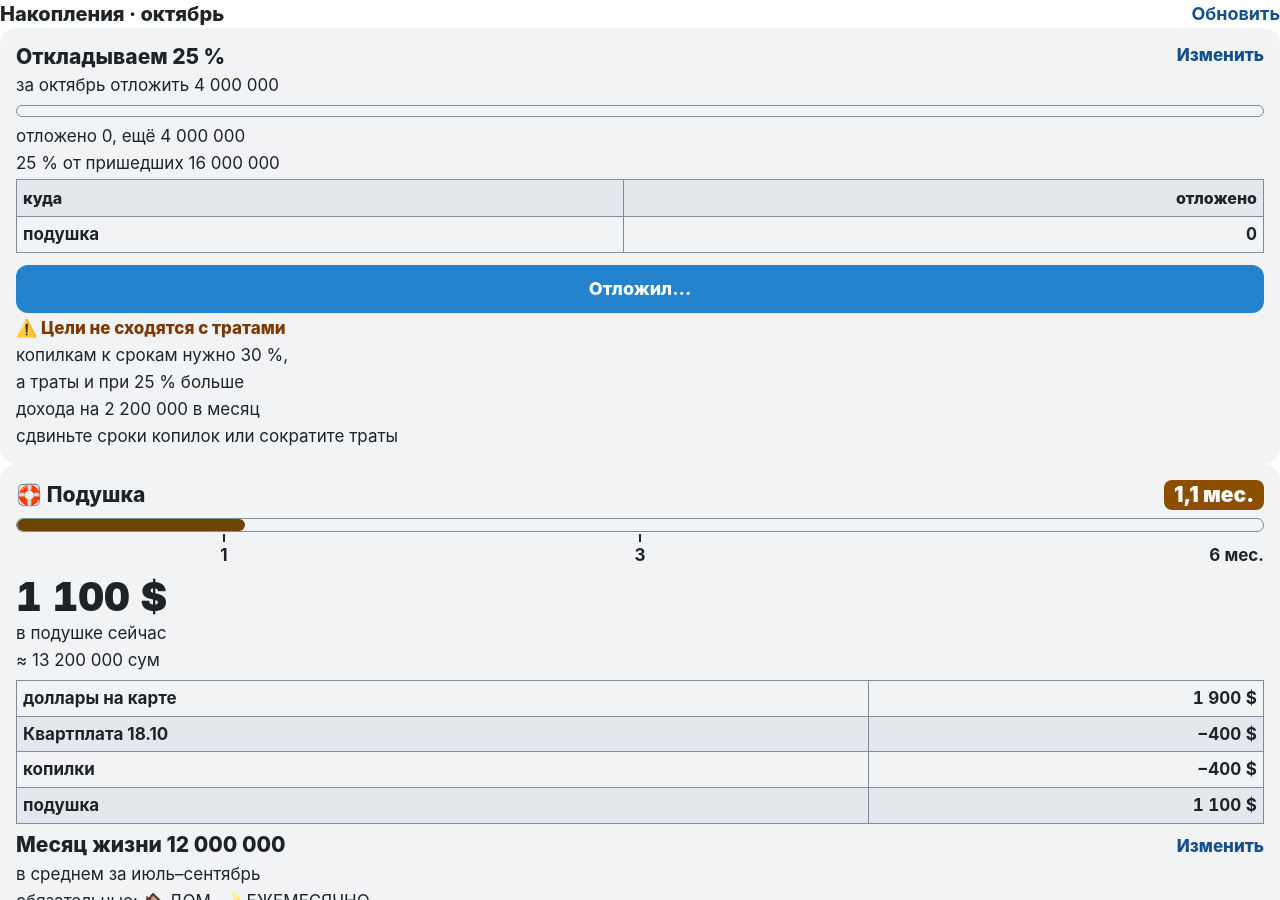
it: SavingsTab › opens the month of life window
The width and height of the screenshot is (1280, 900).
Click the button with aria-label "Изменить месяц жизни": (1220, 847) [1177,835,1264,858]
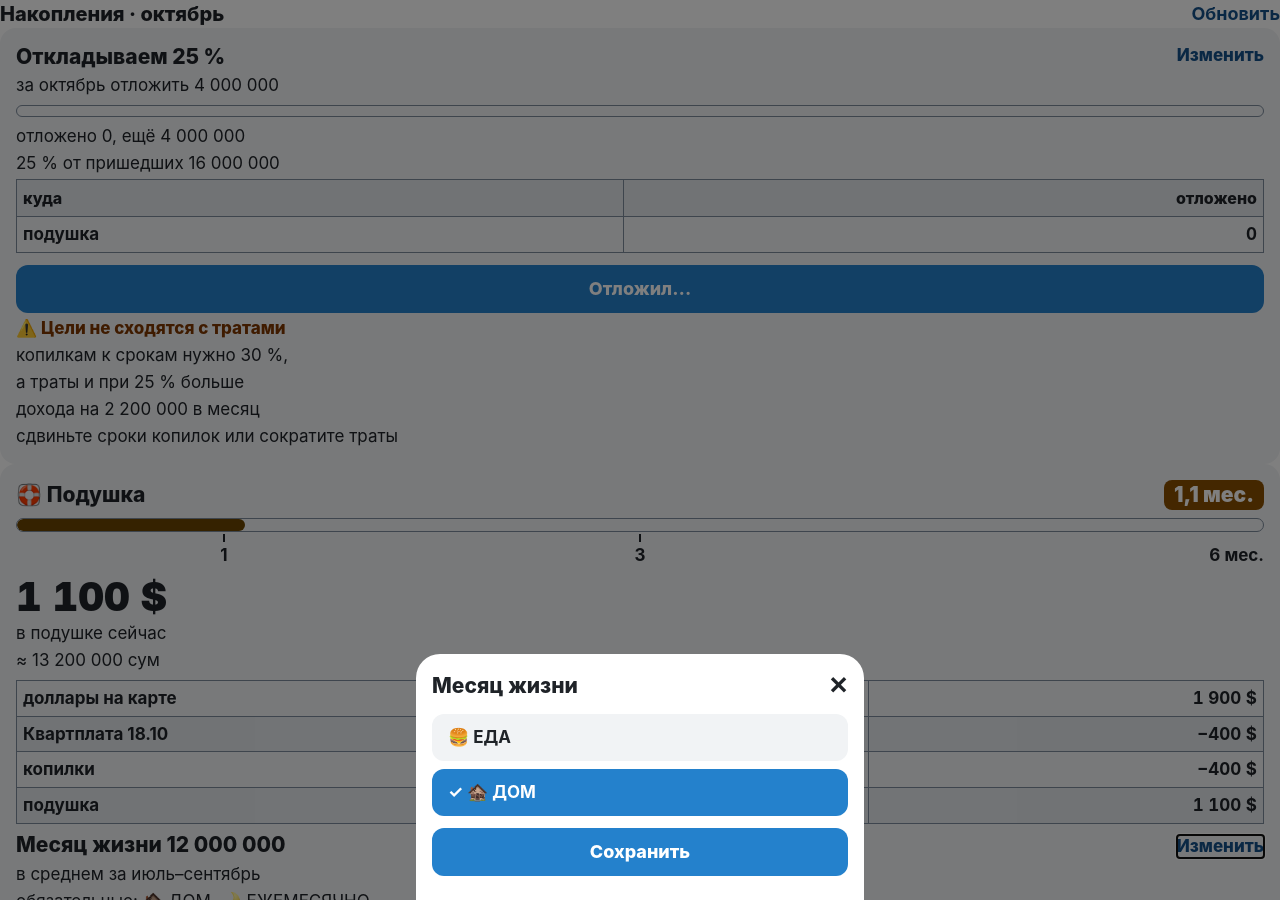
expect the dialog "Месяц жизни" is shown: met
